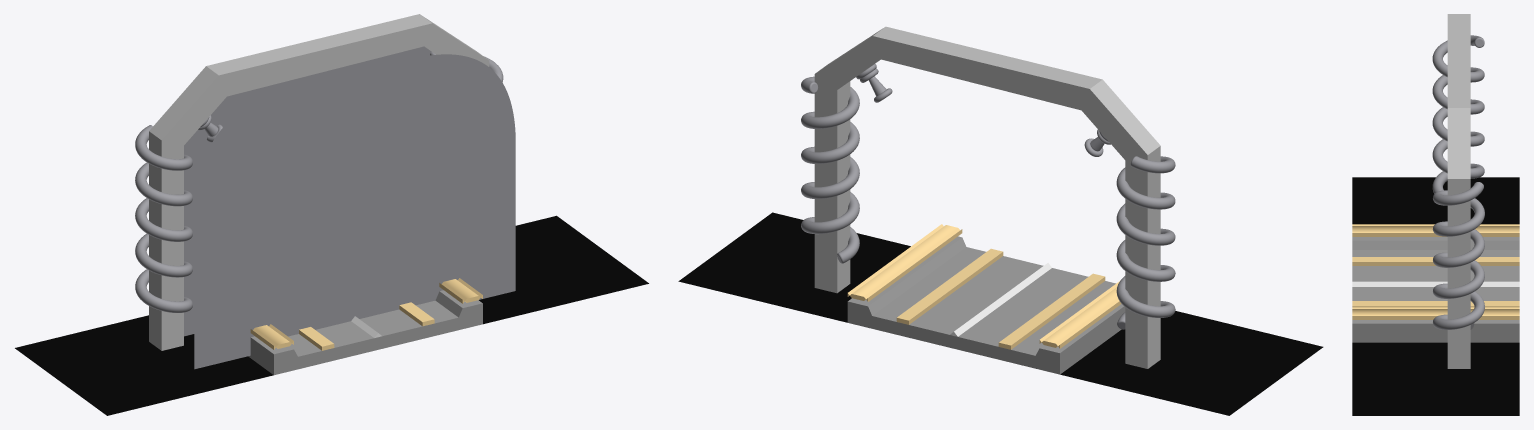
File: station__soap2.glb
3 renders of one model, left to right at view 1: azimuth 30°, elevation 25°; view 2: azimuth 150°, elevation 25°; view 3: azimuth 270°, elevation 25°, orthographic. The views are drawn at different scales.
Parts seen in each view (by area): view 1: lottie_front, _basefloor, Boolean, road, lottie_back, Helix, road__top--left, road__top--right; view 2: _basefloor, Boolean, road, Helix, Helix 2, road__top--right, road__top--left, road__rail--right, road__rail--left, road__rail--middle; view 3: _basefloor, road, Boolean, Helix 2, Helix, road__top--right, road__top--left, road__rail--left, road__rail--right, road__rail--middle.
Boxes of the visible parts, bbox=[...] form: lottie_front: bbox=[194, 54, 515, 369]; _basefloor: bbox=[15, 215, 648, 415]; Boolean: bbox=[149, 14, 489, 350]; road: bbox=[248, 290, 482, 375]; lottie_back: bbox=[184, 46, 431, 336]; Helix: bbox=[135, 125, 192, 312]; road__top--left: bbox=[250, 324, 293, 349]; road__top--right: bbox=[439, 278, 482, 303]; _basefloor: bbox=[678, 212, 1323, 415]; Boolean: bbox=[814, 26, 1160, 368]; road: bbox=[847, 236, 1125, 374]; Helix: bbox=[1116, 156, 1175, 329]; Helix 2: bbox=[801, 76, 859, 263]; road__top--right: bbox=[847, 224, 962, 301]; road__top--left: bbox=[1039, 281, 1121, 348]; road__rail--right: bbox=[896, 248, 1003, 324]; road__rail--left: bbox=[998, 273, 1105, 349]; road__rail--middle: bbox=[950, 263, 1051, 336]; _basefloor: bbox=[1352, 177, 1519, 415]; road: bbox=[1352, 237, 1519, 342]; Boolean: bbox=[1447, 14, 1470, 368]; Helix 2: bbox=[1432, 182, 1484, 329]; Helix: bbox=[1432, 35, 1484, 193]; road__top--right: bbox=[1352, 307, 1519, 319]; road__top--left: bbox=[1352, 224, 1519, 236]; road__rail--left: bbox=[1352, 257, 1519, 265]; road__rail--right: bbox=[1352, 301, 1519, 307]; road__rail--middle: bbox=[1352, 281, 1519, 286].
Size of the model in its own units: 10.8 by 4.98 by 3.2.
